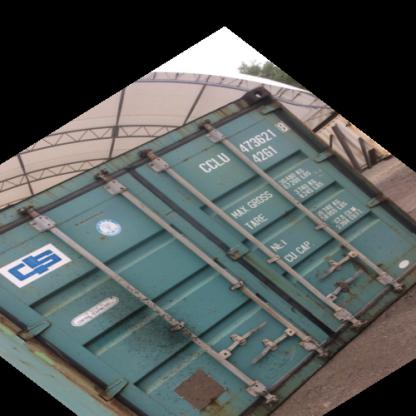Damage: (111, 282, 189, 360), (328, 247, 383, 307), (201, 87, 274, 122), (325, 319, 358, 368)
